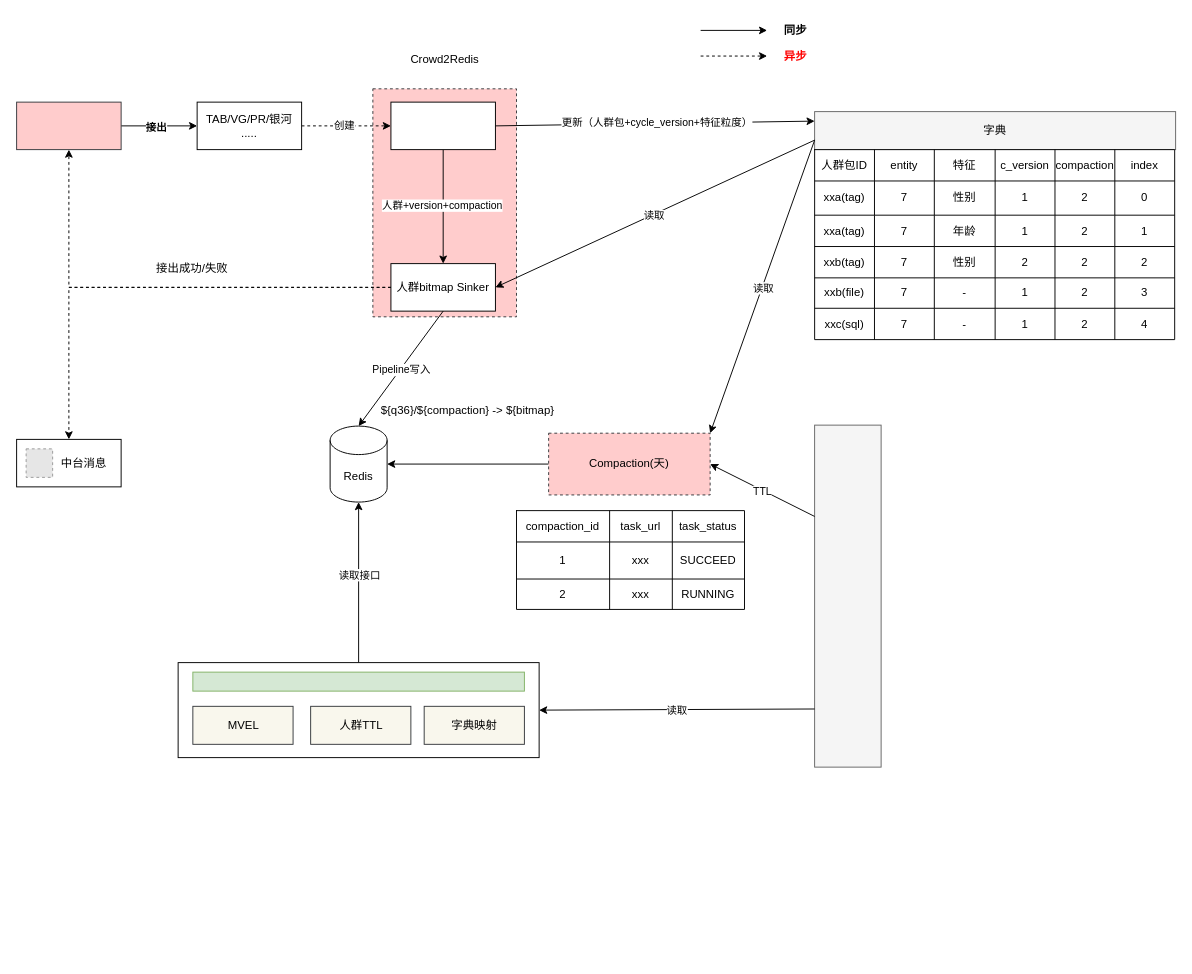
Some shapes in this 1192 by 974 pixel diagram are drawn without their labels. Grey dashed boxes stand in for pictures. Each missing label, with the centre of its shape:
crowd: the point at 68,125
FProxy: the point at 358,681
人群 元数据: the point at 847,595
字典构建任务: the point at 442,125
